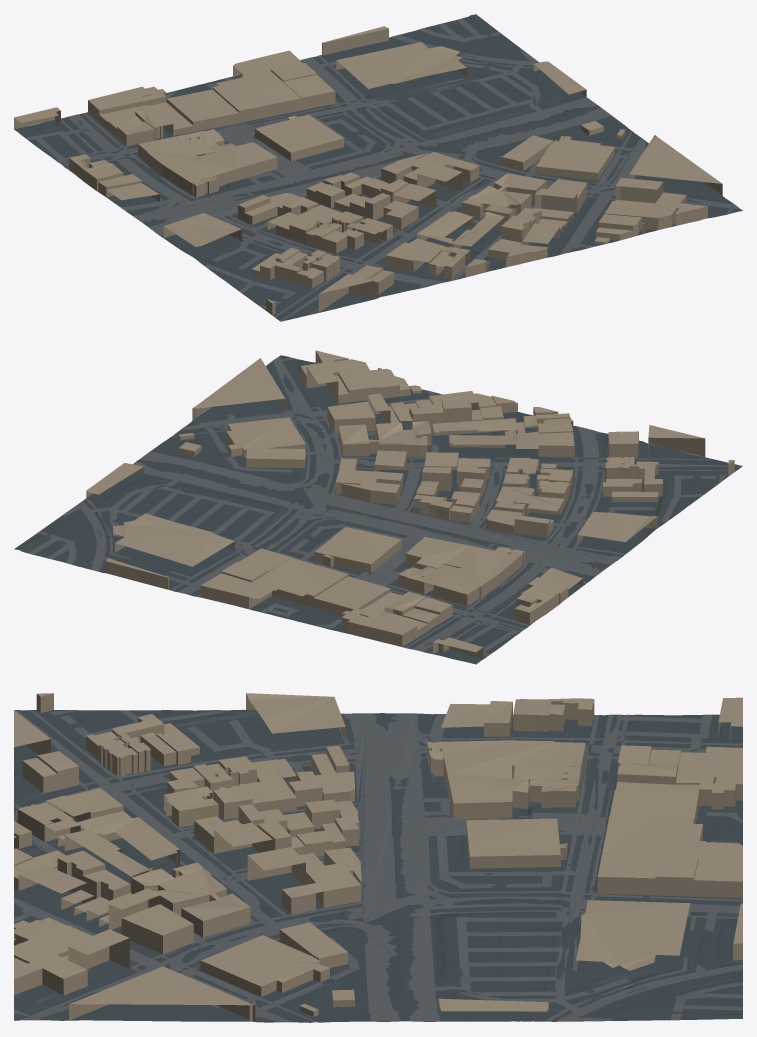
Rendered from epsg26910-1436-10886.lod0.glb.
3 views of the same model, one above another, from view 1: azimuth 30°, elevation 25°; view 2: azimuth 150°, elevation 25°; view 3: azimuth 270°, elevation 25° (orthographic). The views are drawn at different scales.
Parts seen in each view (by area): view 1: epsg26910-1436-10886-lod0; view 2: epsg26910-1436-10886-lod0; view 3: epsg26910-1436-10886-lod0.
Boxes of the visible parts, x1,y1,x2,y2 form: epsg26910-1436-10886-lod0: (14,14,742,321); epsg26910-1436-10886-lod0: (14,350,742,664); epsg26910-1436-10886-lod0: (14,693,742,1022).
Bounding box in the file's own units: 384 × 20.98 × 384.
